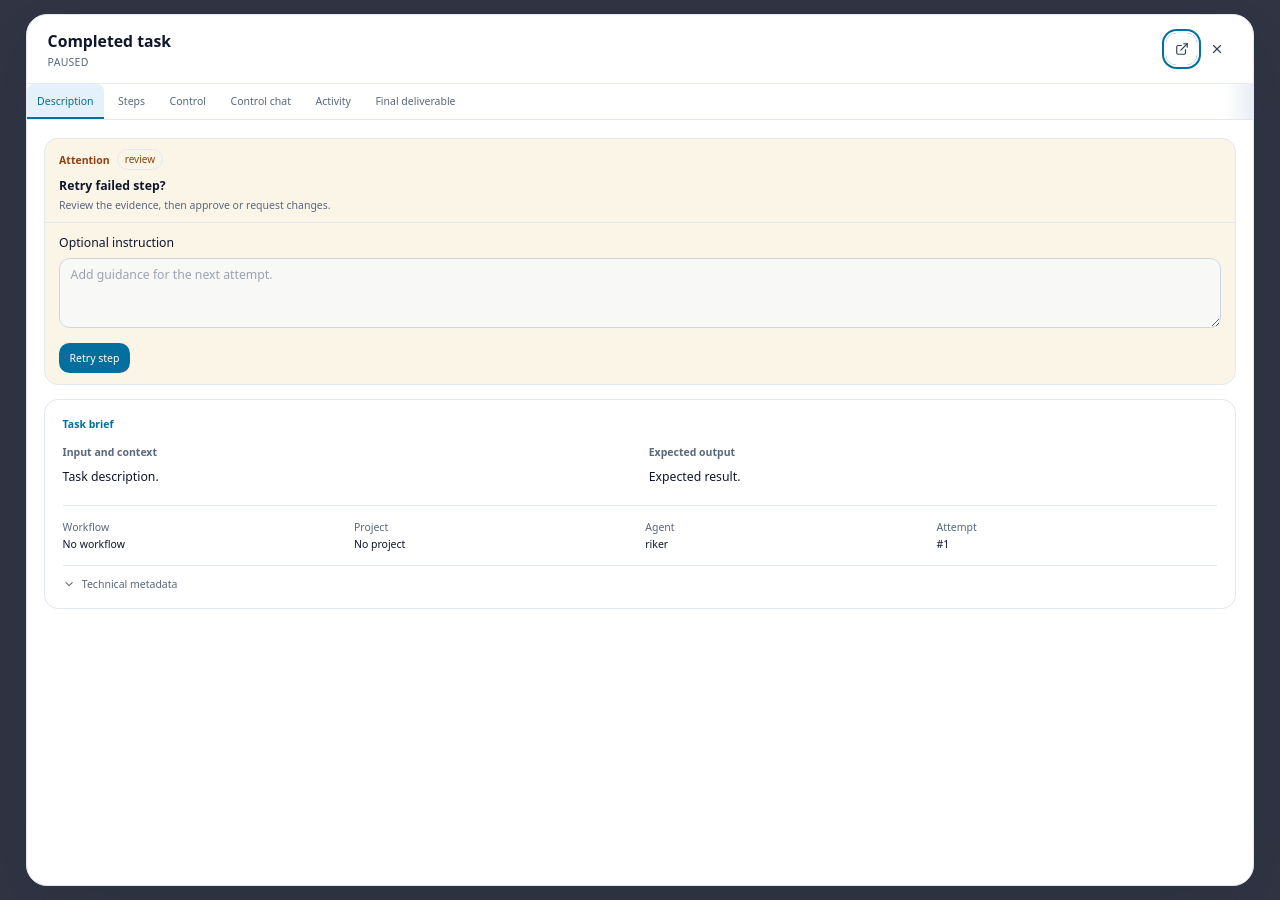
Test case: DashboardEntityModal › submits the exact gate and refreshes stale controls after a conflict
Click the tab with test id "dashboard-task-modal-tab-control": (188, 102) [159,84,217,119]
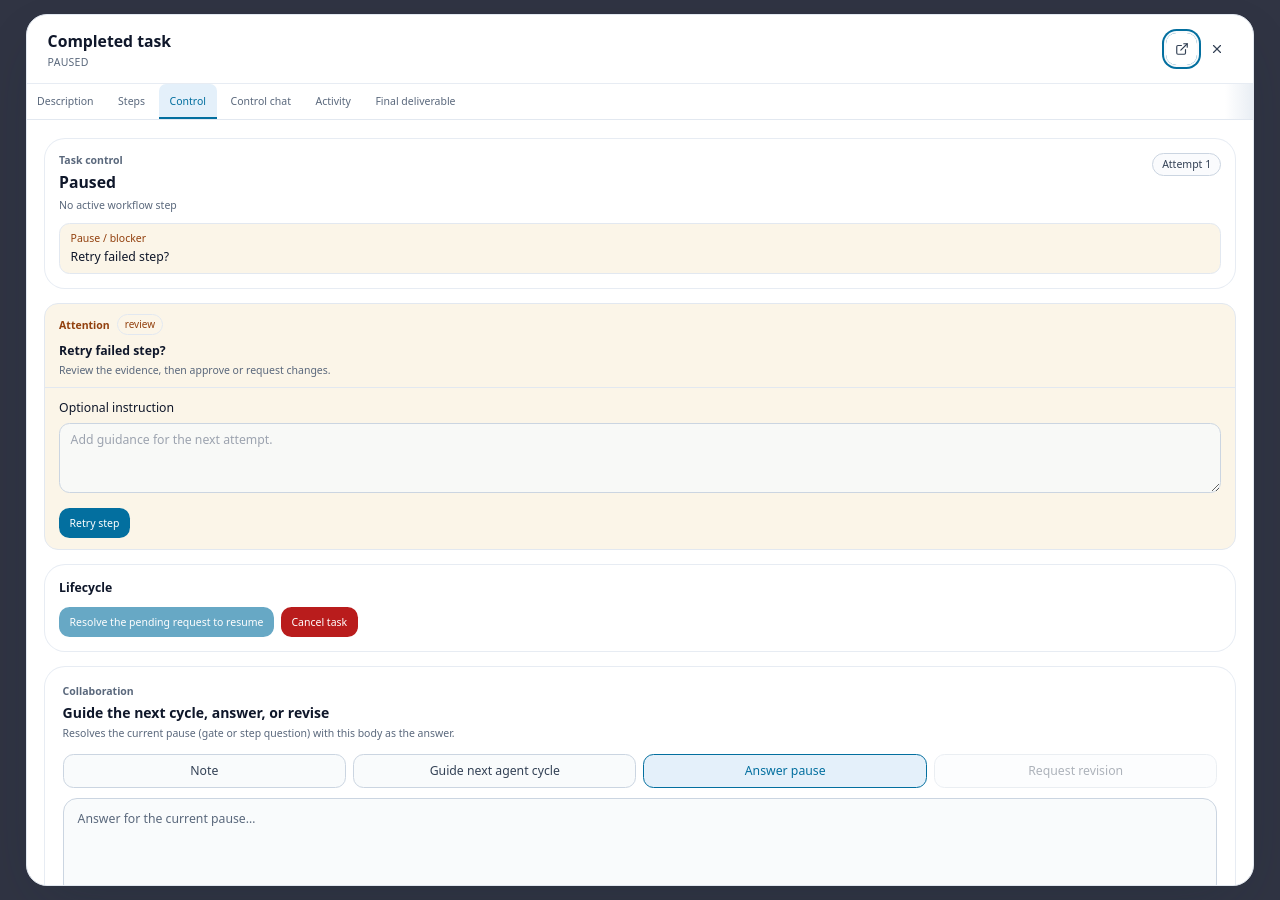
Click the button "Retry step": (95, 523) [59,508,130,538]
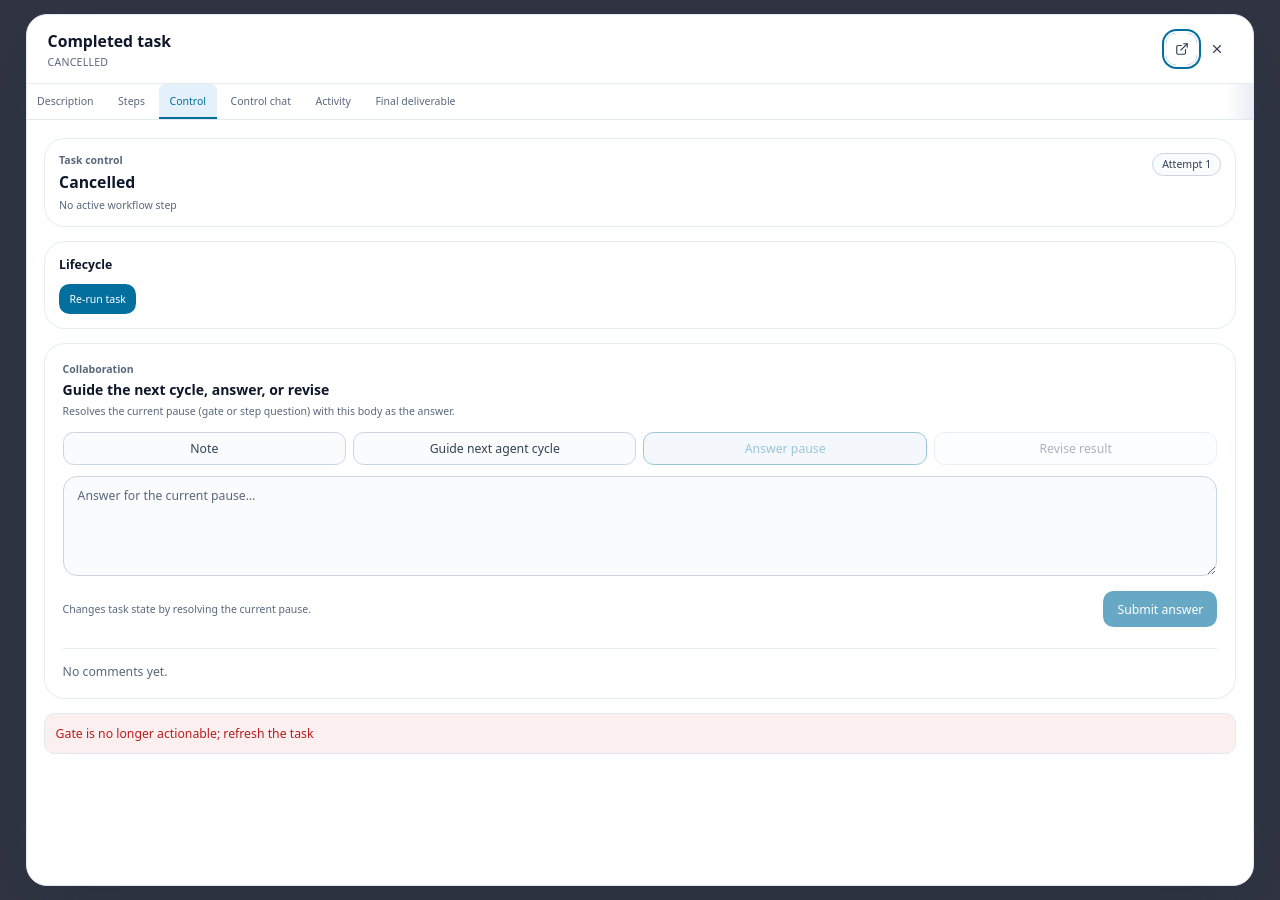
Now the button "Retry step" is gone
